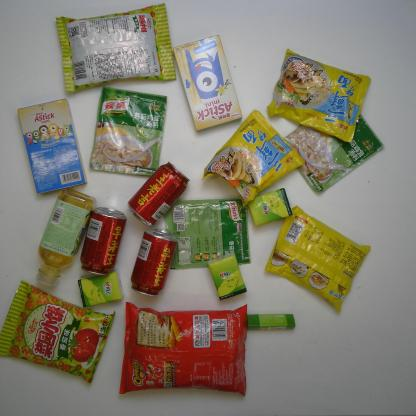Dessert: (16, 98, 88, 195), (172, 35, 243, 132)
Drink: (35, 188, 97, 287), (127, 161, 190, 227), (130, 228, 178, 296), (80, 207, 127, 276)
Instant Noodles: (264, 205, 371, 313), (201, 110, 306, 207), (266, 48, 372, 143)
Puffed Food: (118, 301, 248, 397), (0, 280, 116, 385), (55, 2, 177, 93)
Seasoner: (284, 113, 385, 193), (89, 85, 168, 176), (164, 197, 251, 270)
Stationery: (247, 314, 296, 330)
Tissue: (207, 252, 247, 301), (248, 188, 293, 227), (77, 271, 124, 308)
